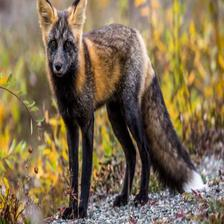fox: (19, 1, 209, 224)
